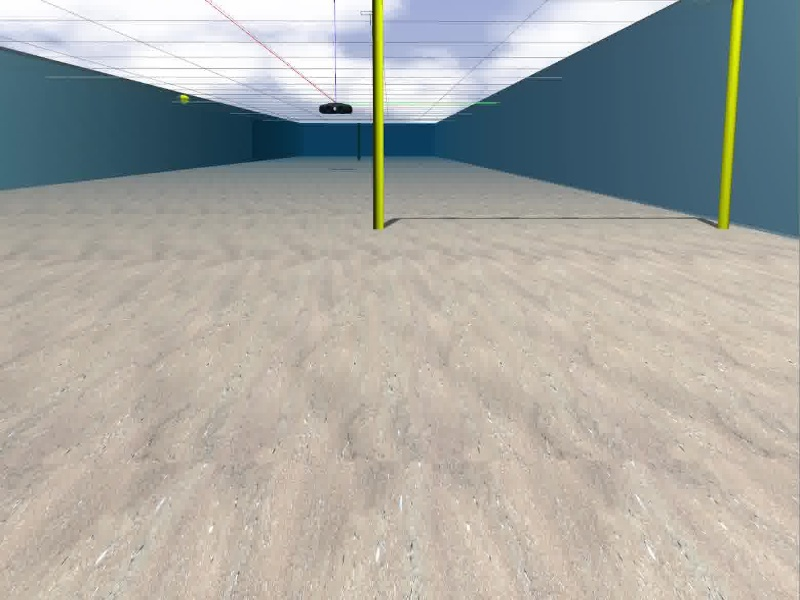gate: (372, 1, 746, 230)
